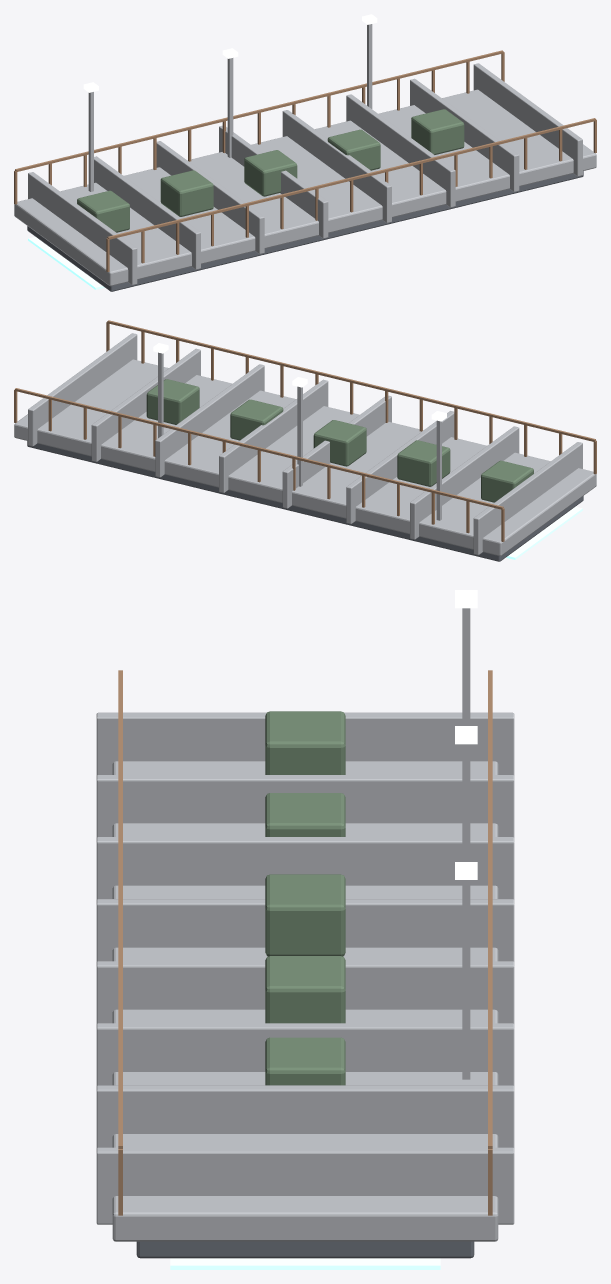
Rendered from bridgew_7.glb.
The picture shows the model from 3 angles, top to bottom: view 1: azimuth 30°, elevation 25°; view 2: azimuth 150°, elevation 25°; view 3: azimuth 270°, elevation 25°; orthographic projection. The views are drawn at different scales.
Parts seen in each view (by area): view 1: ext_bridge_floor, ext_bridge_ribs, ext_bridge_plants, ext_bridge_rail, ext_bridge_under, ext_bridge_glow, ext_lamp1, ext_lamp0, ext_lamp2; view 2: ext_bridge_floor, ext_bridge_ribs, ext_bridge_plants, ext_bridge_rail, ext_bridge_under, ext_bridge_glow, ext_lamp0, ext_lamp1, ext_lamp2; view 3: ext_bridge_ribs, ext_bridge_floor, ext_bridge_plants, ext_bridge_under, ext_bridge_rail, ext_bridge_glow, ext_lamp2, ext_lamp0, ext_lamp1.
Boxes of the visible parts, x1,y1,x2,y2 form: ext_bridge_floor: (14, 89, 596, 286); ext_bridge_ribs: (28, 63, 582, 285); ext_bridge_plants: (77, 109, 464, 232); ext_bridge_rail: (14, 50, 596, 271); ext_bridge_under: (27, 171, 583, 291); ext_bridge_glow: (28, 236, 104, 289); ext_lamp1: (227, 58, 233, 157); ext_lamp0: (88, 92, 93, 191); ext_lamp2: (367, 24, 372, 108); ext_bridge_floor: (14, 359, 596, 556); ext_bridge_ribs: (28, 333, 582, 555); ext_bridge_plants: (146, 379, 533, 502); ext_bridge_rail: (14, 320, 596, 541); ext_bridge_under: (27, 441, 583, 561); ext_bridge_glow: (506, 506, 582, 559); ext_lamp0: (436, 420, 441, 520); ext_lamp1: (297, 386, 302, 486); ext_lamp2: (158, 352, 163, 437); ext_bridge_ribs: (96, 712, 514, 1224); ext_bridge_floor: (112, 761, 498, 1241); ext_bridge_plants: (265, 711, 345, 1085); ext_bridge_under: (136, 1241, 474, 1258); ext_bridge_rail: (118, 670, 492, 1215); ext_bridge_glow: (170, 1258, 440, 1269); ext_lamp2: (462, 880, 470, 1079); ext_lamp0: (462, 608, 470, 725); ext_lamp1: (462, 744, 470, 861).
Size of the model in its own units: 7.03 by 1.83 by 2.6.
